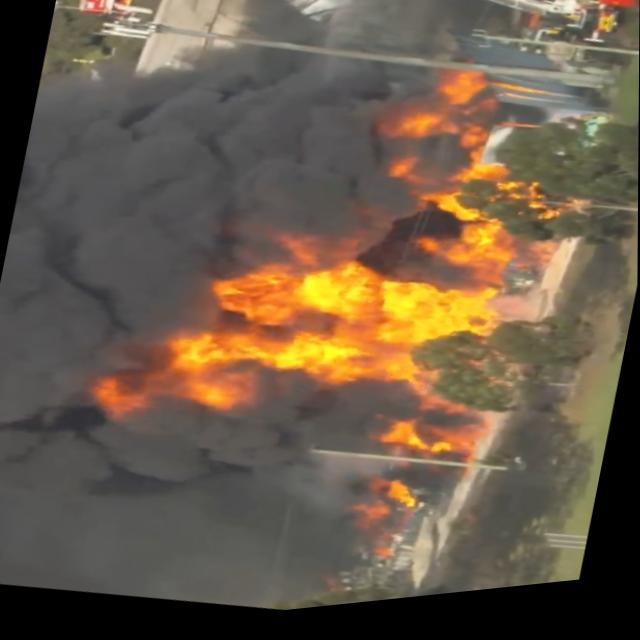Fire: (109, 25, 608, 610)
